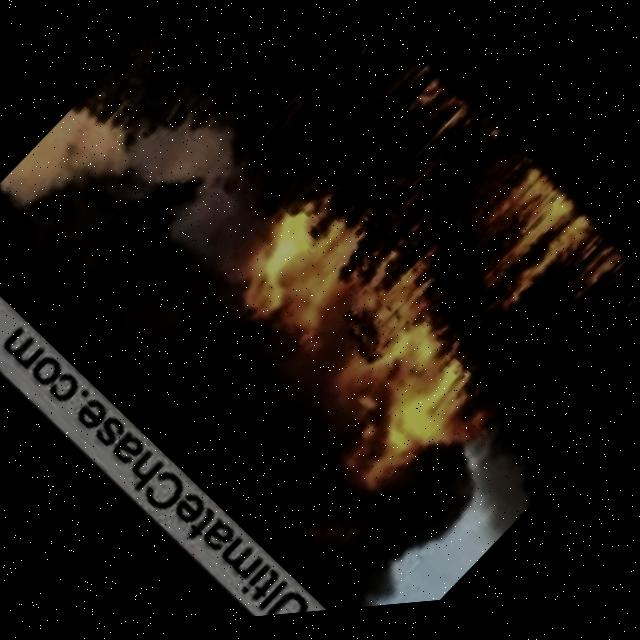Fire: (169, 41, 633, 531), (282, 0, 354, 11)
Smoke: (0, 37, 555, 640), (0, 257, 308, 640)
